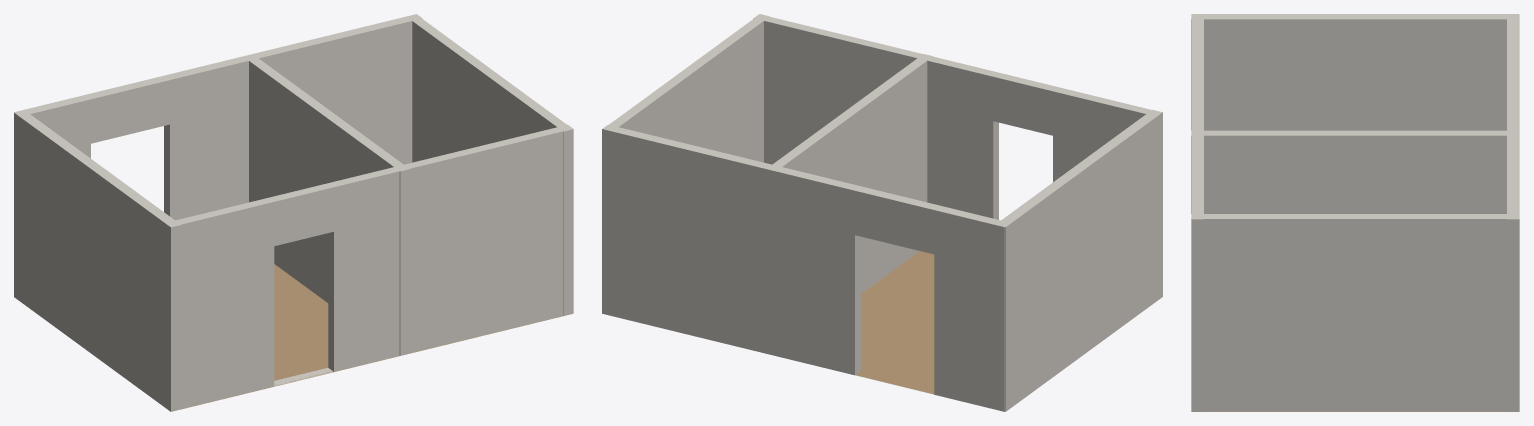
The picture shows the model from 3 angles, left to right: view 1: azimuth 30°, elevation 25°; view 2: azimuth 150°, elevation 25°; view 3: azimuth 270°, elevation 25°; orthographic projection. The views are drawn at different scales.
Size of the model in its own units: 6.17 by 2.7 by 4.17.
